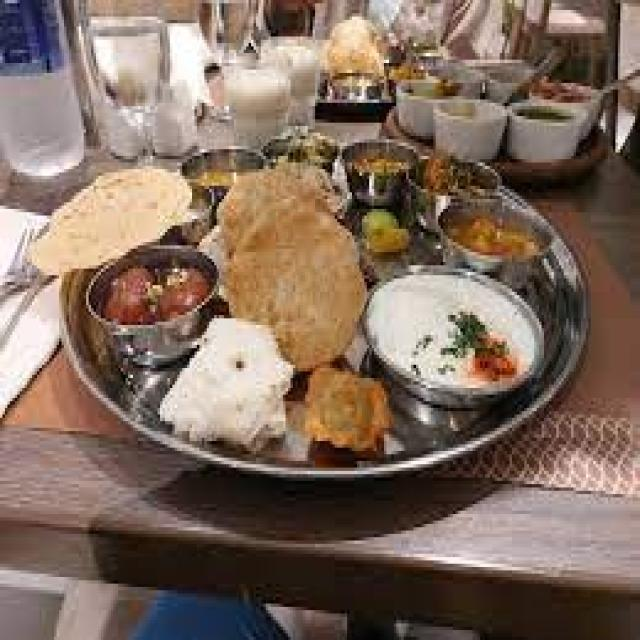dal: (439, 196, 547, 278)
papad: (34, 161, 196, 281)
rice: (373, 267, 547, 409)
roti: (209, 141, 365, 366), (164, 316, 293, 461)
sweet: (83, 240, 223, 369)
veg-fry: (80, 242, 222, 361)
